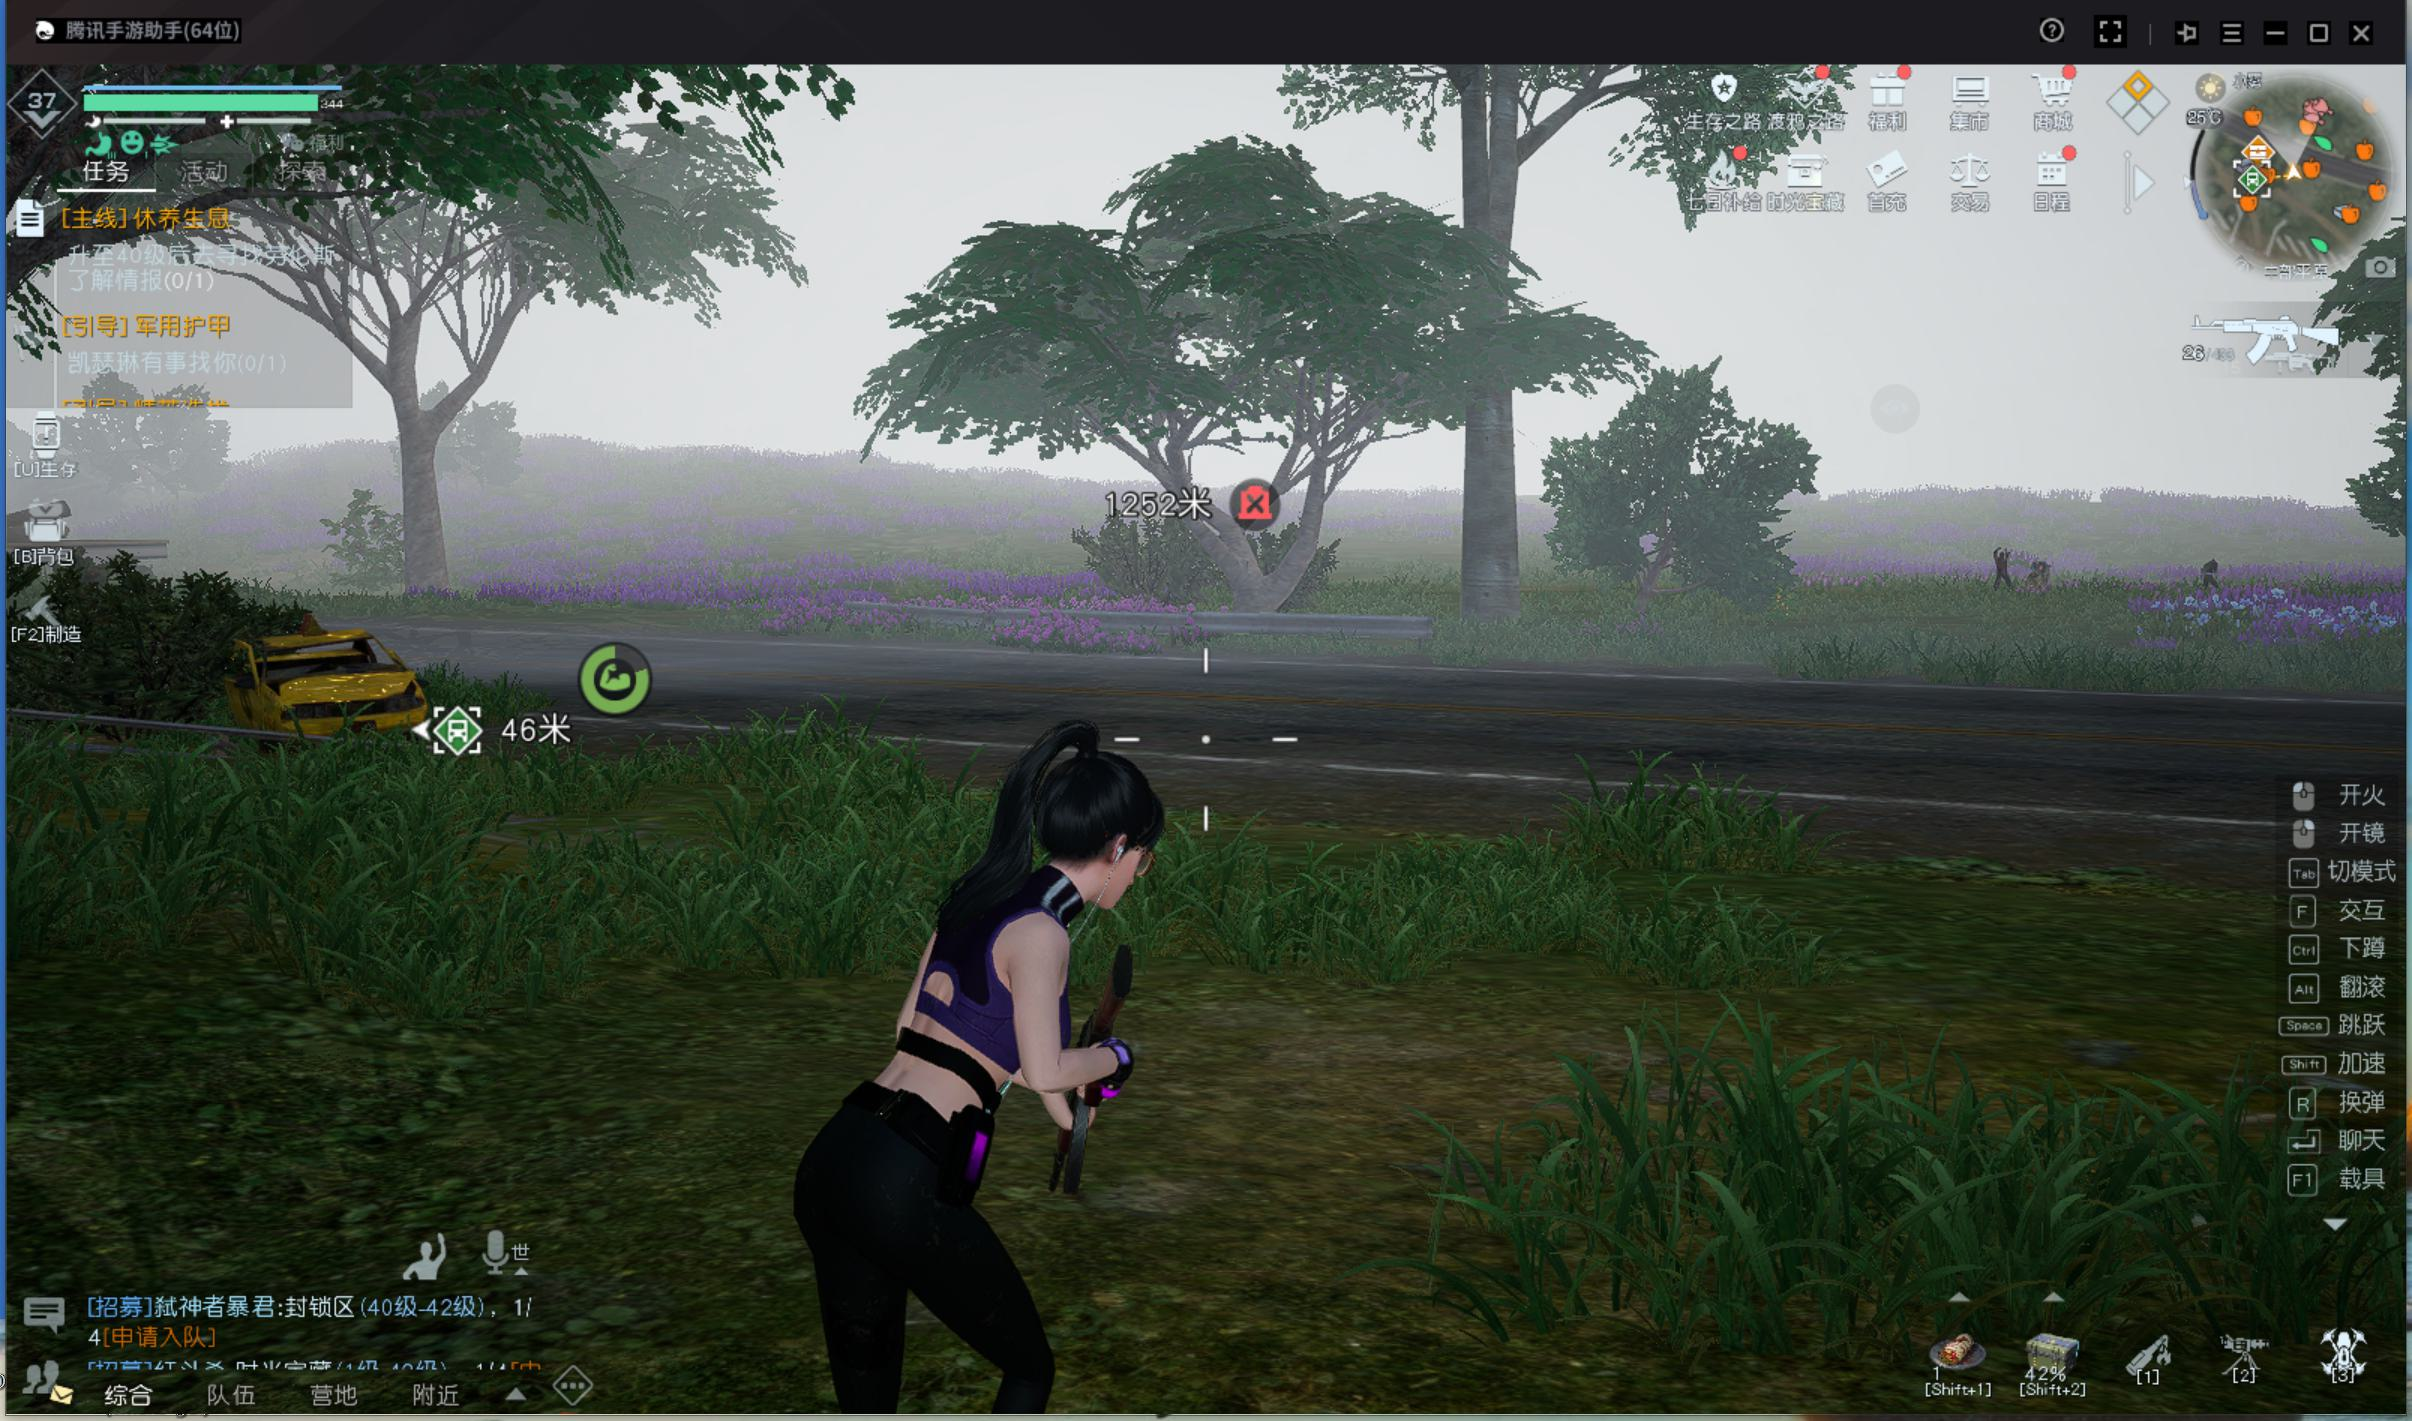tree: (1450, 433, 1536, 634), (386, 426, 469, 611)
